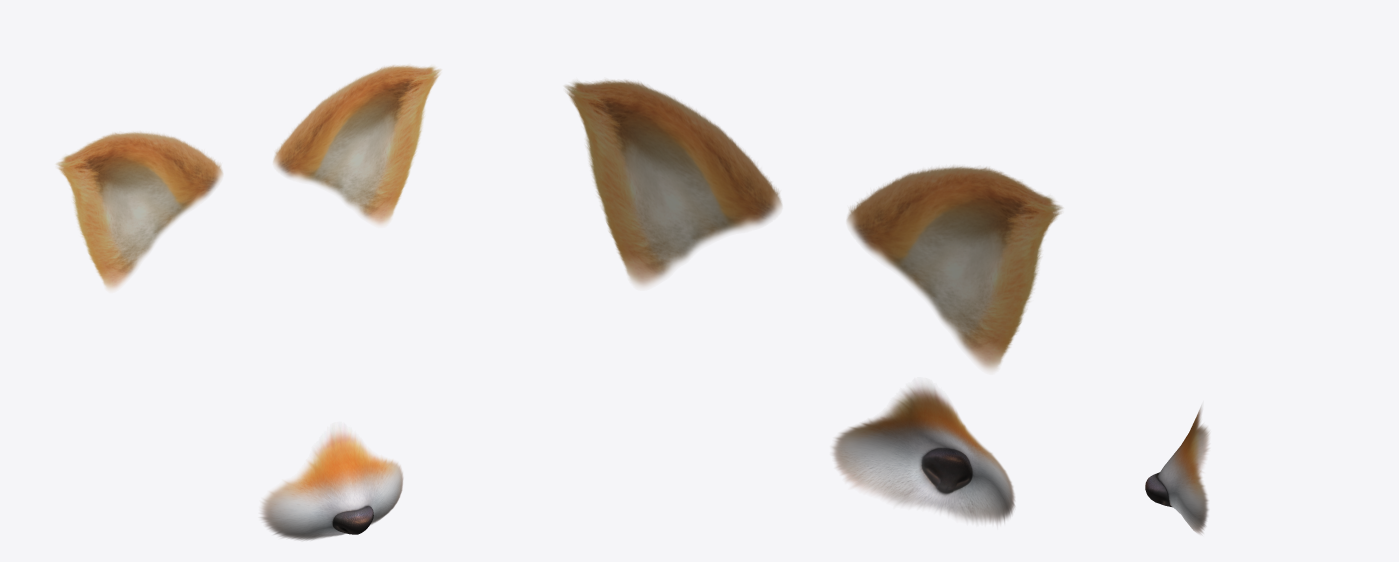
Rendered from fox.glb.
3 renders of one model, left to right at view 1: azimuth 30°, elevation 25°; view 2: azimuth 150°, elevation 25°; view 3: azimuth 270°, elevation 25°, orthographic. The views are drawn at different scales.
Parts seen in each view (by area): view 1: forehead_left, forehead_right, nose; view 2: forehead_left, forehead_right, nose; view 3: nose.
Boxes of the visible parts, x1,y1,x2,y2 form: forehead_left: [273, 65, 440, 224]; forehead_right: [56, 131, 222, 289]; nose: [260, 429, 403, 540]; forehead_left: [564, 80, 781, 285]; forehead_right: [847, 165, 1062, 369]; nose: [831, 385, 1015, 524]; nose: [1145, 406, 1209, 534].
Size of the model in its own units: 0.2323 by 0.207 by 0.0983.
Materials: 3 (3 with a texture image).
